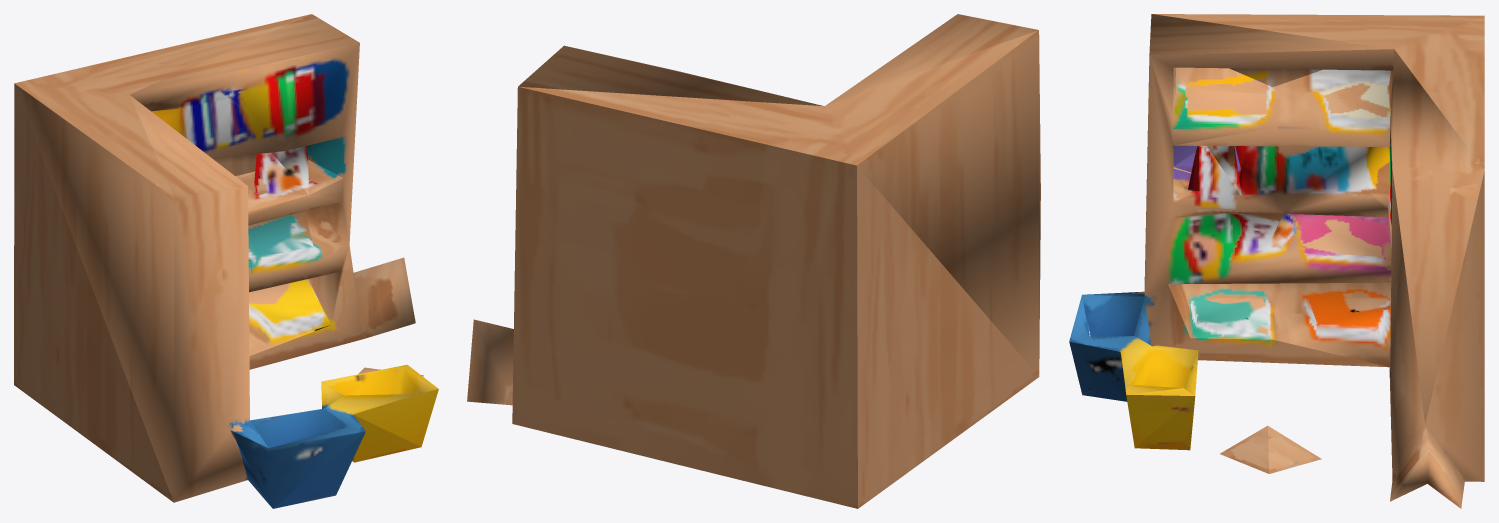
The model's file is classroom-bookshelf-broken.glb.
3 views of the same model, side by side, from view 1: azimuth 30°, elevation 25°; view 2: azimuth 150°, elevation 25°; view 3: azimuth 270°, elevation 25° (orthographic). The views are drawn at different scales.
Visible parts, largest first — view 1: geometry_0.001; view 2: geometry_0.001; view 3: geometry_0.001.
Boxes of the visible parts, x1,y1,x2,y2 form: geometry_0.001: [14, 14, 438, 508]; geometry_0.001: [467, 14, 1040, 508]; geometry_0.001: [1069, 14, 1484, 508].
Size of the model in its own units: 0.9958 by 0.8019 by 0.9469.
1 material, 1 textured.
